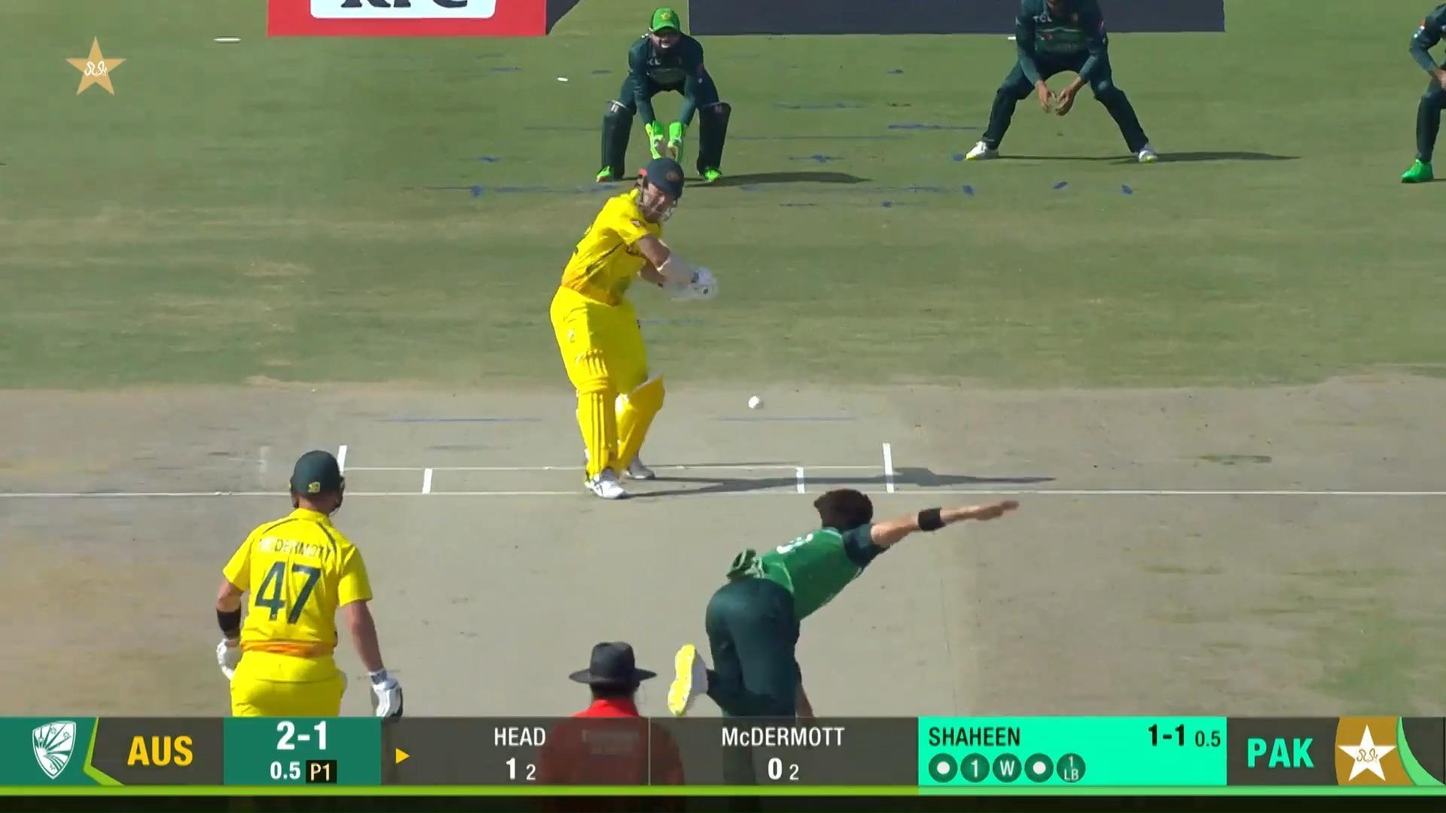BM 1: (550, 154, 718, 503)
BO: (666, 486, 1022, 782)
